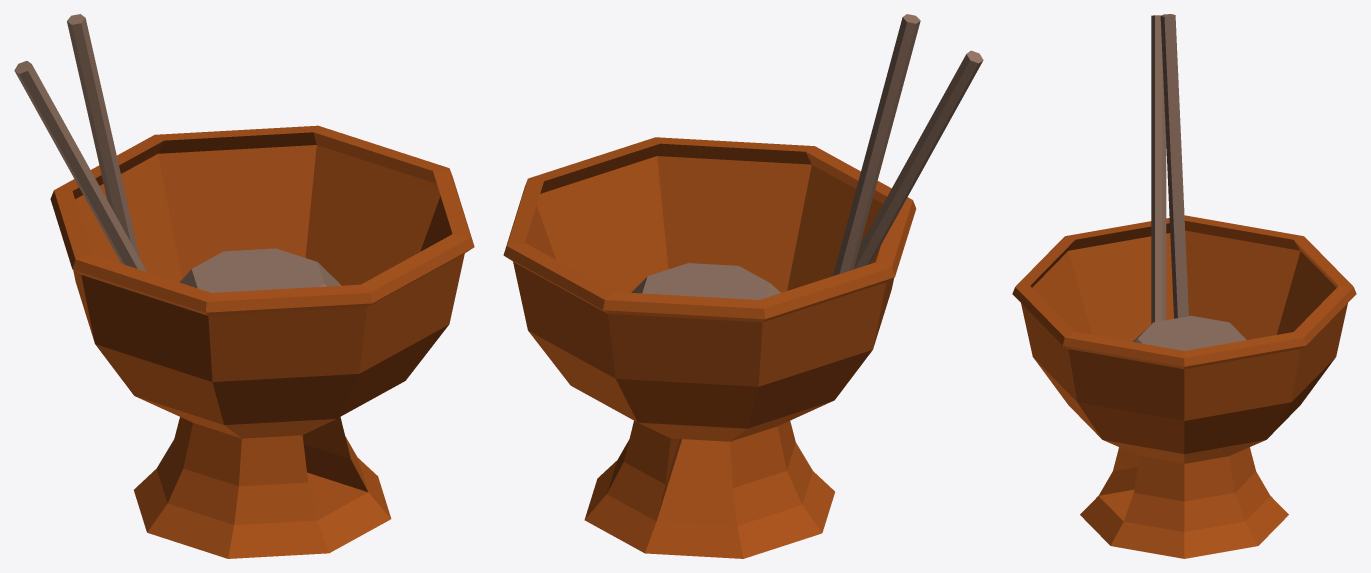
Rendered from Menyan-Dukun.fbx.
The picture shows the model from 3 angles, left to right: view 1: azimuth 30°, elevation 25°; view 2: azimuth 150°, elevation 25°; view 3: azimuth 270°, elevation 25°; orthographic projection. The views are drawn at different scales.
Visible parts, largest first — view 1: mangkuk, dupa.001, dupa; view 2: mangkuk, dupa, dupa.001; view 3: mangkuk, dupa, dupa.001.
Part boxes in pixels (left/top/right/bottom): mangkuk: left=50, top=125, right=474, bottom=558; dupa.001: left=14, top=61, right=146, bottom=271; dupa: left=67, top=14, right=139, bottom=258; mangkuk: left=503, top=137, right=916, bottom=558; dupa: left=833, top=14, right=920, bottom=275; dupa.001: left=854, top=50, right=983, bottom=269; mangkuk: left=1012, top=215, right=1356, bottom=558; dupa: left=1160, top=14, right=1188, bottom=318; dupa.001: left=1151, top=15, right=1166, bottom=323.
Bounding box in the file's own units: 86.64 × 99.29 × 72.83.
